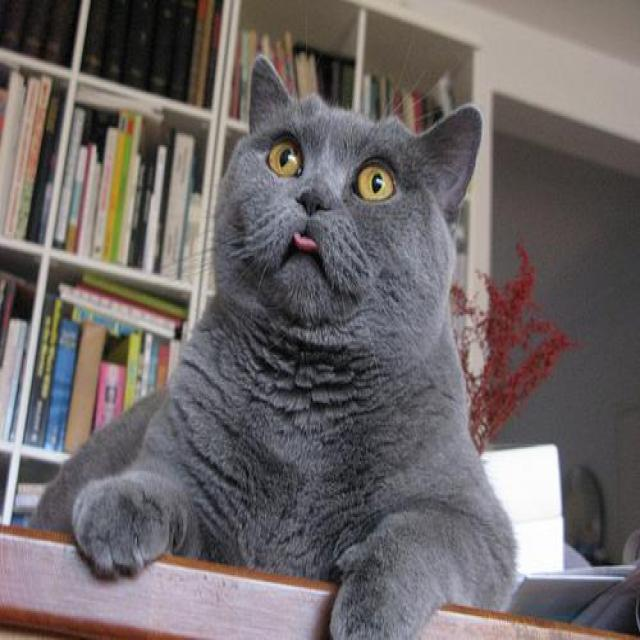cat: (29, 54, 515, 640)
